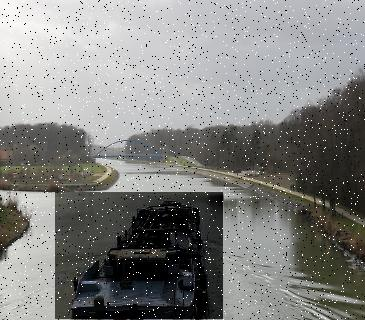Ship: (56, 192, 223, 319)
